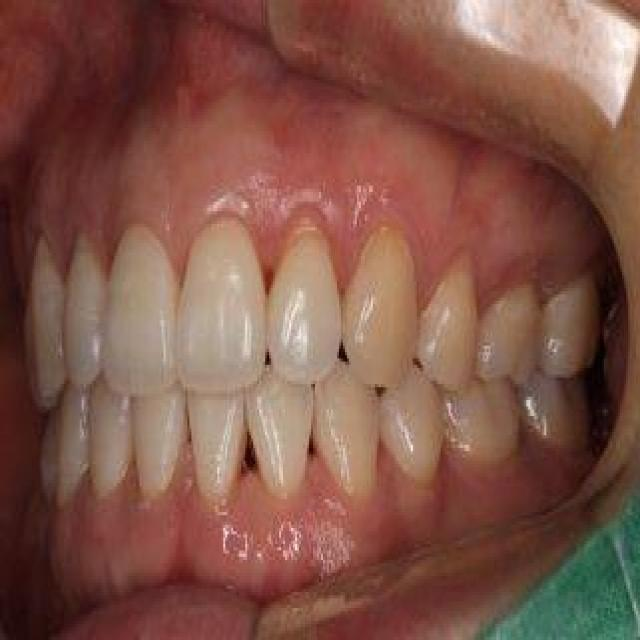Tooth: (177, 218, 265, 394), (106, 221, 181, 400), (341, 227, 419, 390), (269, 230, 341, 387), (313, 358, 379, 496), (247, 362, 313, 499), (413, 253, 479, 390), (379, 362, 443, 483), (64, 230, 112, 387), (187, 390, 249, 506), (28, 237, 68, 413), (443, 374, 520, 464), (514, 368, 590, 458), (475, 282, 542, 384), (132, 378, 187, 502), (538, 269, 598, 378), (90, 365, 132, 502), (58, 374, 94, 515)
